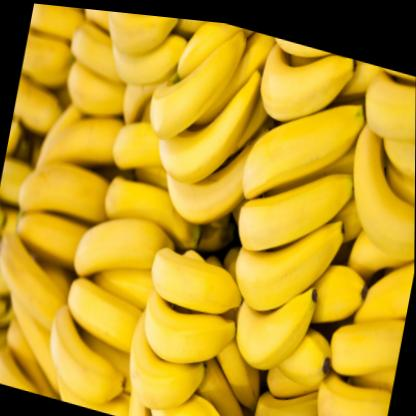---: (128, 11, 280, 233), (35, 199, 177, 416), (117, 230, 250, 416), (237, 56, 371, 224), (232, 133, 362, 280), (225, 184, 349, 331), (335, 109, 416, 261), (224, 256, 324, 377)
